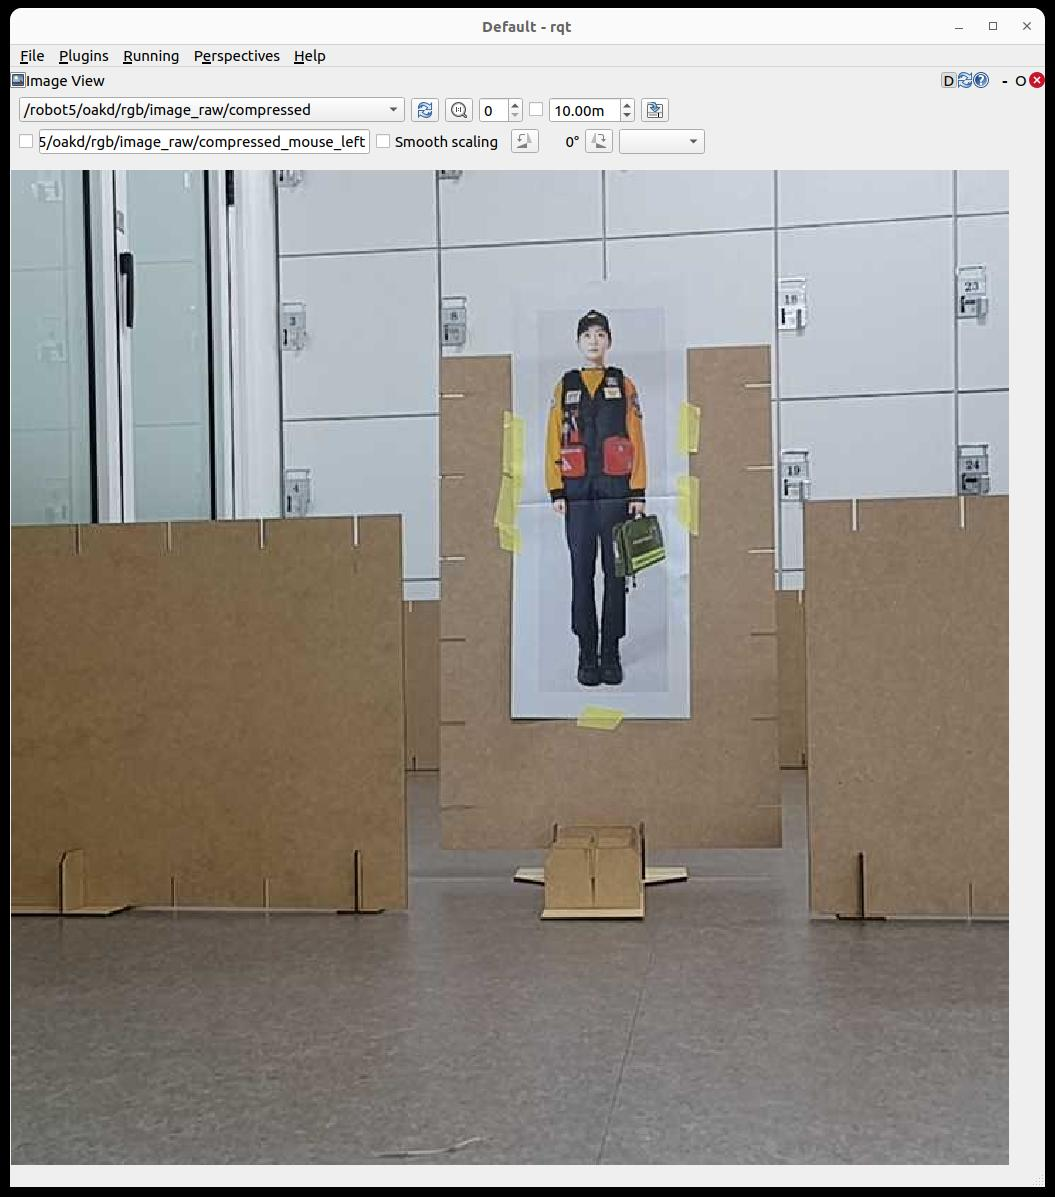Responder: (545, 311, 646, 687)
